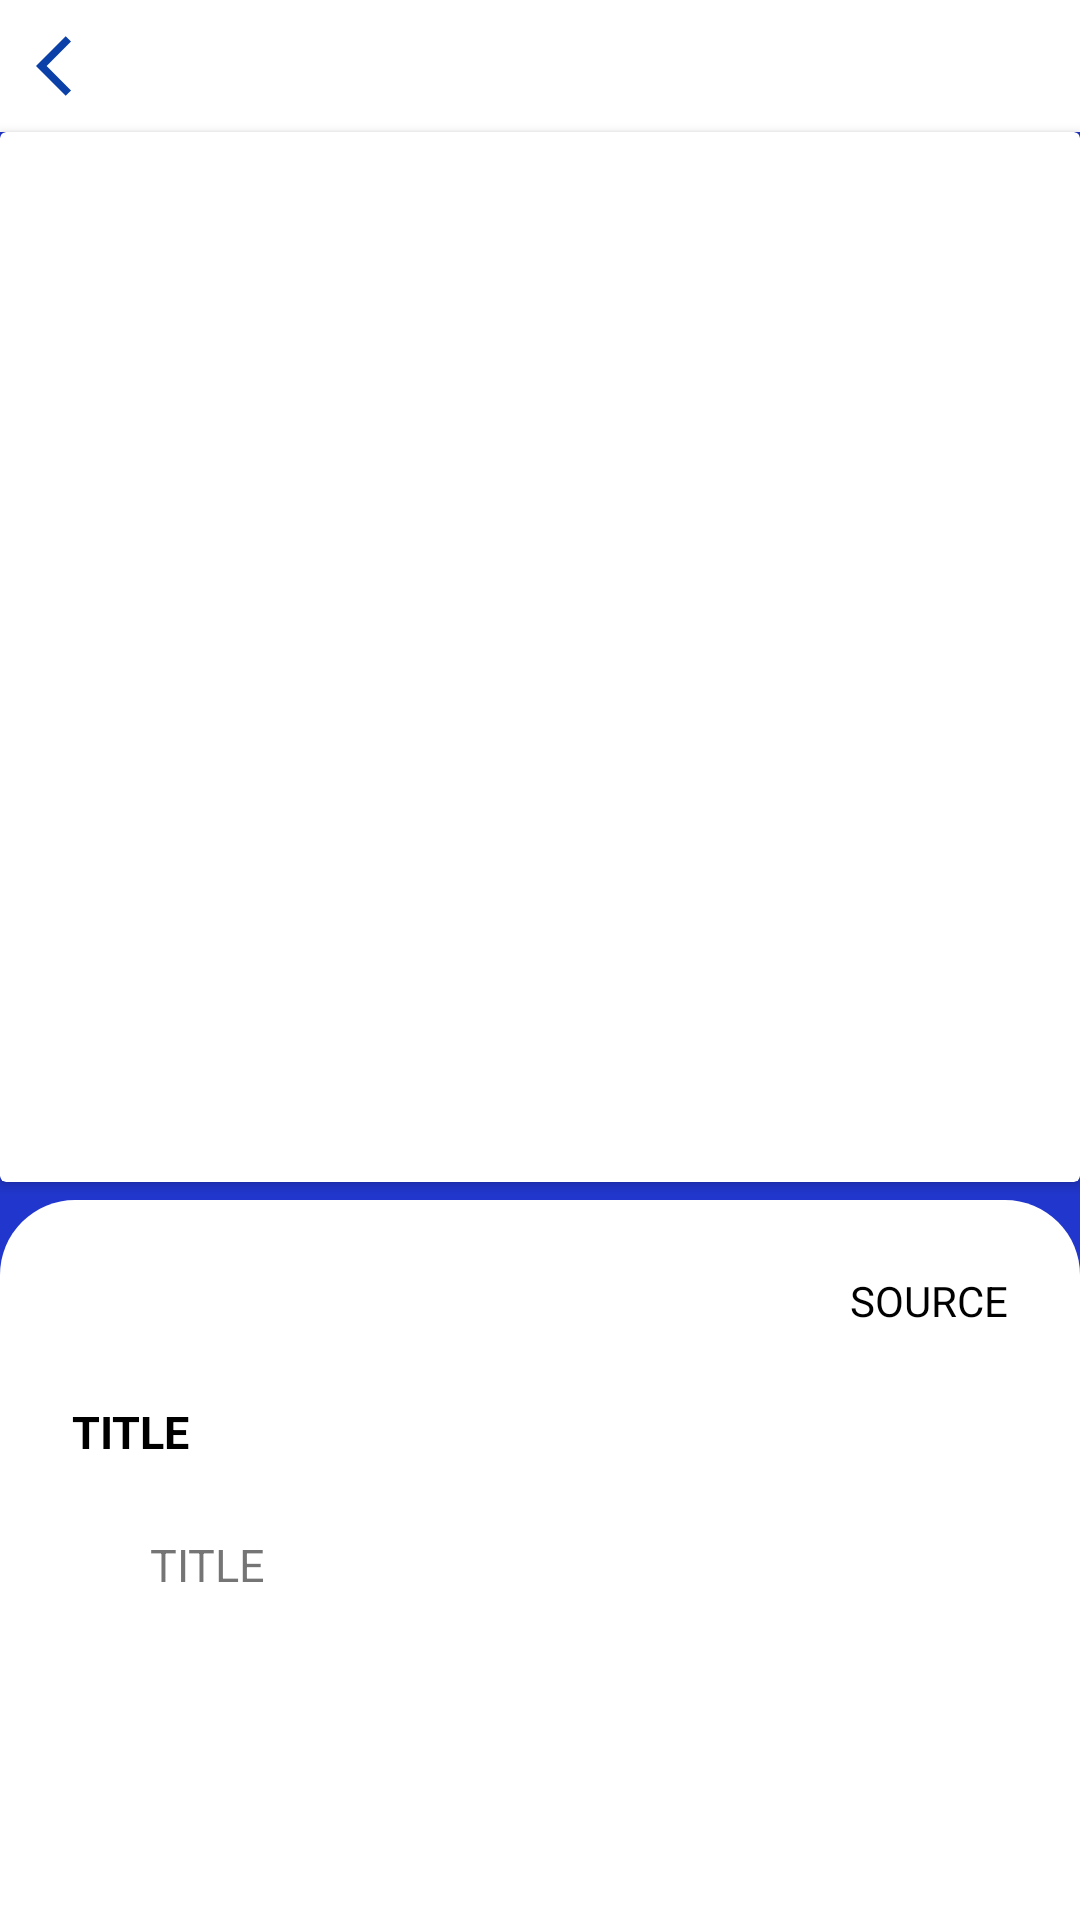

Named icons in this screenshot (1080px x 1920px) and their bounding boxes, bbox=(x1, y1, x2, y2):
back: bbox=(36, 36, 71, 96)
